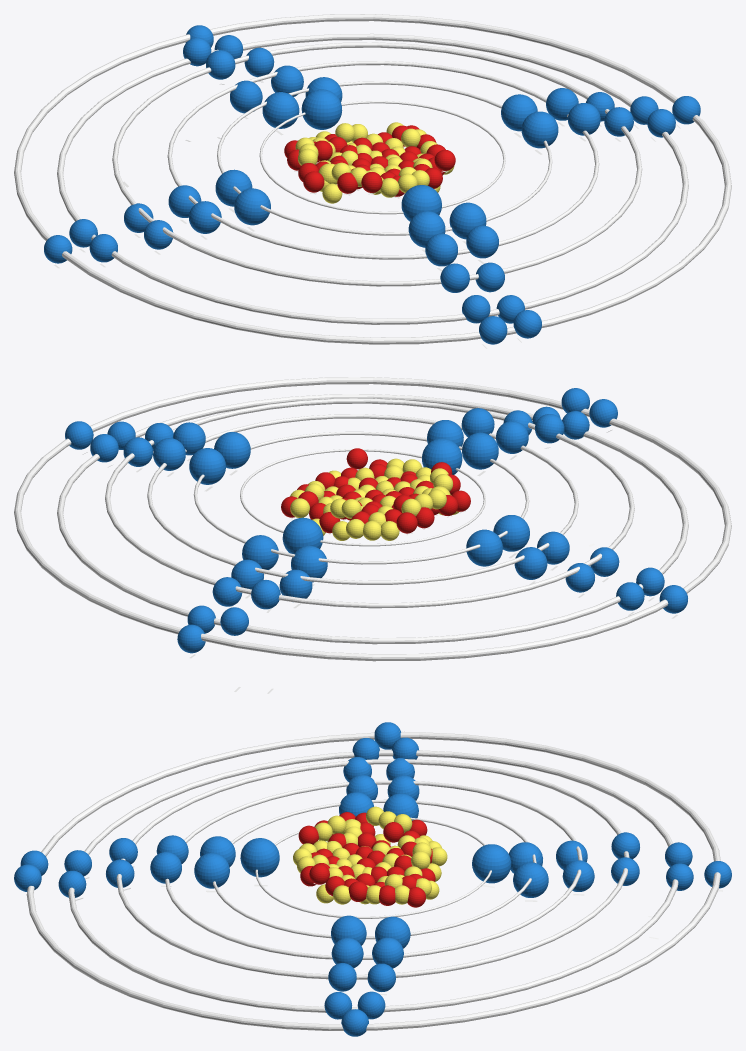
3 views of the same model, one above another, from view 1: azimuth 30°, elevation 25°; view 2: azimuth 150°, elevation 25°; view 3: azimuth 270°, elevation 25° (orthographic). The views are drawn at different scales.
Parts seen in each view (by area): view 1: Torus.006, Torus.005, Torus.004, Torus.003, Torus.002, Torus.001, g, g.005, g.003, g.001, g.008, g.007 (+29 smaller); view 2: Torus.006, Torus.005, Torus.004, Torus.003, Torus.002, Torus.001, g, g.006, g.004, g.002, g.001, g.005 (+29 smaller); view 3: Torus.006, Torus.005, Torus.004, Torus.003, Torus.002, g.001, g, Torus.001, g.007, g.009, g.015, g.005 (+28 smaller).
Boxes of the visible parts, box(x1,y1,x2,y2) form: Torus.006: box(14, 14, 731, 344); Torus.005: box(57, 33, 688, 324); Torus.004: box(112, 42, 642, 286); Torus.003: box(167, 61, 599, 259); Torus.002: box(217, 81, 552, 235); Torus.001: box(259, 101, 505, 214); g: box(301, 89, 342, 129); g.005: box(521, 111, 558, 148); g.003: box(234, 188, 270, 225); g.001: box(401, 185, 441, 221); g.008: box(262, 92, 299, 128); g.007: box(449, 202, 486, 239); Torus.006: box(14, 377, 731, 661); Torus.005: box(57, 394, 688, 644); Torus.004: box(105, 398, 634, 608); Torus.003: box(147, 414, 578, 584); Torus.002: box(193, 431, 529, 564); Torus.001: box(240, 449, 485, 546); g: box(282, 517, 323, 553); g.006: box(462, 432, 498, 469); g.004: box(189, 448, 225, 484); g.002: box(466, 529, 502, 566); g.001: box(422, 438, 462, 474); g.005: box(214, 432, 250, 468); Torus.006: box(26, 732, 720, 1030); Torus.005: box(68, 750, 678, 1012); Torus.004: box(116, 759, 629, 979); Torus.003: box(165, 780, 582, 959); Torus.002: box(213, 799, 536, 939); g.001: box(240, 838, 279, 877); g: box(472, 844, 511, 883); Torus.001: box(255, 817, 491, 918); g.007: box(194, 853, 229, 888); g.009: box(513, 862, 548, 897); g.015: box(150, 852, 181, 883); g.005: box(331, 915, 366, 945).
Size of the model in its own units: 17.93 by 2.92 by 18.08.
